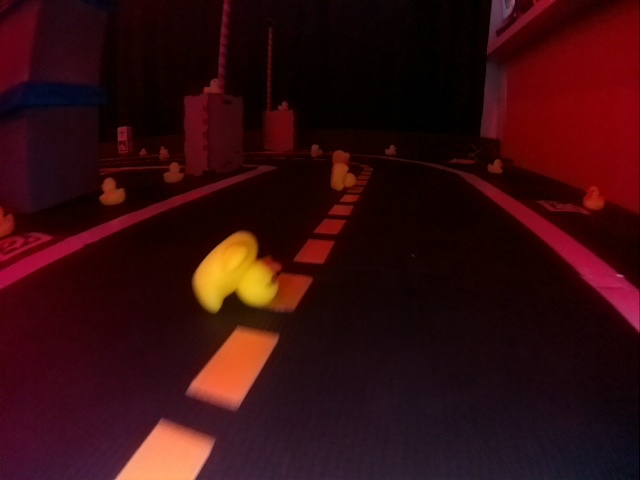Duckie: (192, 231, 281, 312), (100, 178, 125, 205), (331, 164, 355, 189), (584, 186, 604, 210), (165, 162, 184, 182)
